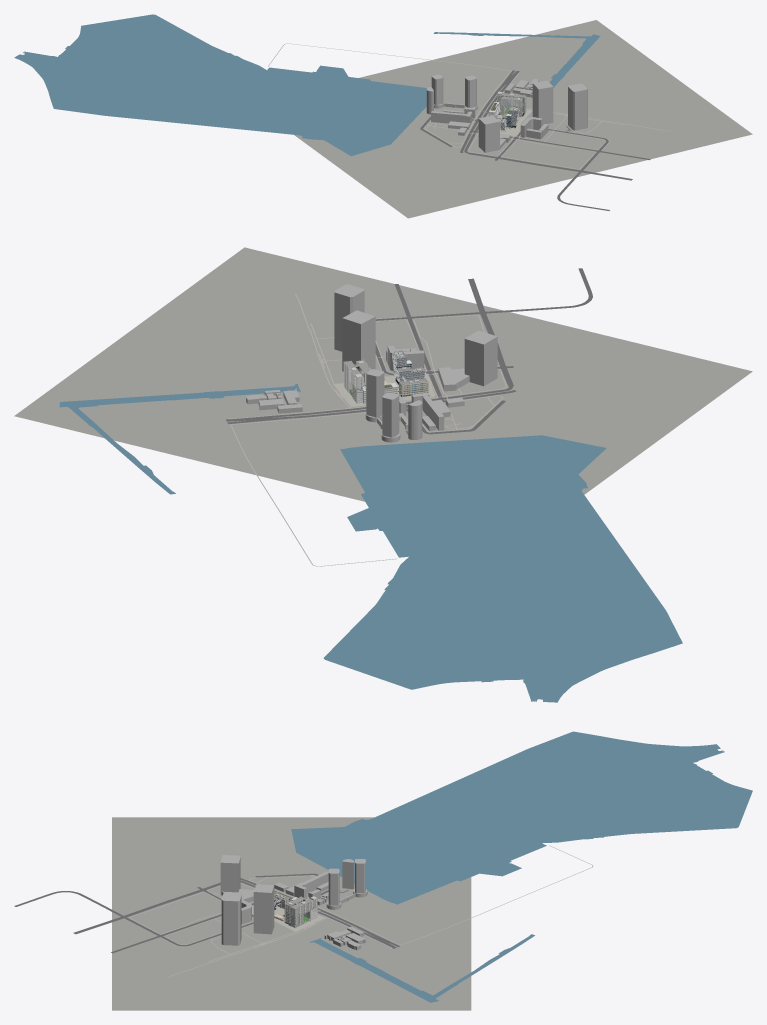
File: campus_all.fbx
The picture shows the model from 3 angles, top to bottom: view 1: azimuth 30°, elevation 25°; view 2: azimuth 150°, elevation 25°; view 3: azimuth 270°, elevation 25°; orthographic projection. The views are drawn at different scales.
Visible parts, largest first — view 1: 地面_L_site.blend, 運河_721243864_L_site.blend, 道路_車道_L_site.blend, 道路_歩道_L_site.blend, 運河_87725065_L_site.blend, 周辺_THE TOYOSU TOWER_102379220_L_site.blend, 周辺_シティタワーズ豊洲_187753906_L_site.blend, 周辺_豊洲IHIビル_102519005_L_site.blend, 研究棟_外観.001, 周辺_豊洲ハイライズ_103379229_L_site.blend, 周辺_キャナルワーフタワーズ East_103379231_L_site.blend; view 2: 地面_L_site.blend, 運河_721243864_L_site.blend, 道路_車道_L_site.blend, 運河_87725065_L_site.blend, 道路_歩道_L_site.blend, 周辺_シティタワーズ豊洲_187753906_L_site.blend, 周辺_豊洲IHIビル_102519005_L_site.blend, 周辺_THE TOYOSU TOWER_102379220_L_site.blend, 周辺_キャナルワーフタワーズ East_103379231_L_site.blend, 周辺_キャナルワーフタワーズ West_103379242_L_site.blend; view 3: 地面_L_site.blend, 運河_721243864_L_site.blend, 道路_車道_L_site.blend, 道路_歩道_L_site.blend, 運河_87725065_L_site.blend, 周辺_THE TOYOSU TOWER_102379220_L_site.blend, 周辺_シティタワーズ豊洲_187753906_L_site.blend, 周辺_豊洲IHIビル_102519005_L_site.blend, 研究棟_外観.001, 周辺_豊洲ハイライズ_103379229_L_site.blend.
Part boxes in pixels (box(x1,y1,x2,y2)): 地面_L_site.blend: box(294, 20, 752, 218); 運河_721243864_L_site.blend: box(14, 14, 426, 156); 道路_車道_L_site.blend: box(420, 70, 650, 210); 道路_歩道_L_site.blend: box(268, 43, 670, 169); 運河_87725065_L_site.blend: box(433, 32, 600, 87); 周辺_THE TOYOSU TOWER_102379220_L_site.blend: box(568, 83, 587, 130); 周辺_シティタワーズ豊洲_187753906_L_site.blend: box(532, 80, 553, 124); 周辺_豊洲IHIビル_102519005_L_site.blend: box(478, 115, 499, 152); 研究棟_外観.001: box(497, 91, 526, 116); 周辺_豊洲ハイライズ_103379229_L_site.blend: box(431, 111, 472, 124); 周辺_キャナルワーフタワーズ East_103379231_L_site.blend: box(465, 75, 476, 107); 地面_L_site.blend: box(14, 247, 752, 501); 運河_721243864_L_site.blend: box(323, 435, 682, 702); 道路_車道_L_site.blend: box(226, 268, 592, 434); 運河_87725065_L_site.blend: box(59, 384, 300, 494); 道路_歩道_L_site.blend: box(228, 294, 506, 566); 周辺_シティタワーズ豊洲_187753906_L_site.blend: box(342, 310, 375, 371); 周辺_豊洲IHIビル_102519005_L_site.blend: box(464, 330, 497, 386); 周辺_THE TOYOSU TOWER_102379220_L_site.blend: box(334, 284, 364, 351); 周辺_キャナルワーフタワーズ East_103379231_L_site.blend: box(366, 369, 384, 417); 周辺_キャナルワーフタワーズ West_103379242_L_site.blend: box(382, 392, 399, 437); 地面_L_site.blend: box(112, 817, 471, 1010); 運河_721243864_L_site.blend: box(291, 731, 752, 904); 道路_車道_L_site.blend: box(14, 873, 399, 953); 道路_歩道_L_site.blend: box(130, 845, 593, 977); 運河_87725065_L_site.blend: box(309, 934, 534, 1002); 周辺_THE TOYOSU TOWER_102379220_L_site.blend: box(221, 893, 241, 945); 周辺_シティタワーズ豊洲_187753906_L_site.blend: box(253, 884, 274, 934); 周辺_豊洲IHIビル_102519005_L_site.blend: box(220, 855, 240, 895); 研究棟_外観.001: box(282, 896, 317, 927); 周辺_豊洲ハイライズ_103379229_L_site.blend: box(294, 871, 328, 898).
Bounding box in the file's own units: 2023 × 150 × 2264.
